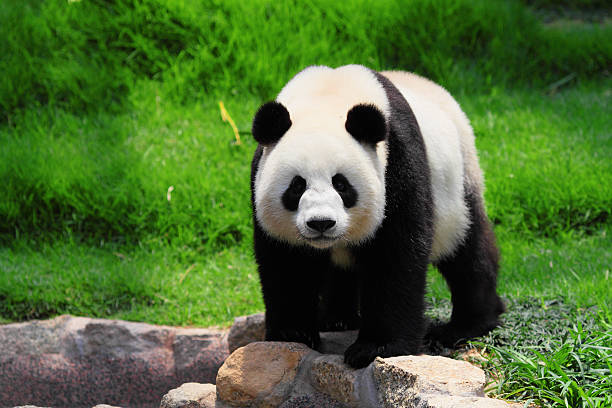panda: (216, 80, 418, 284)
